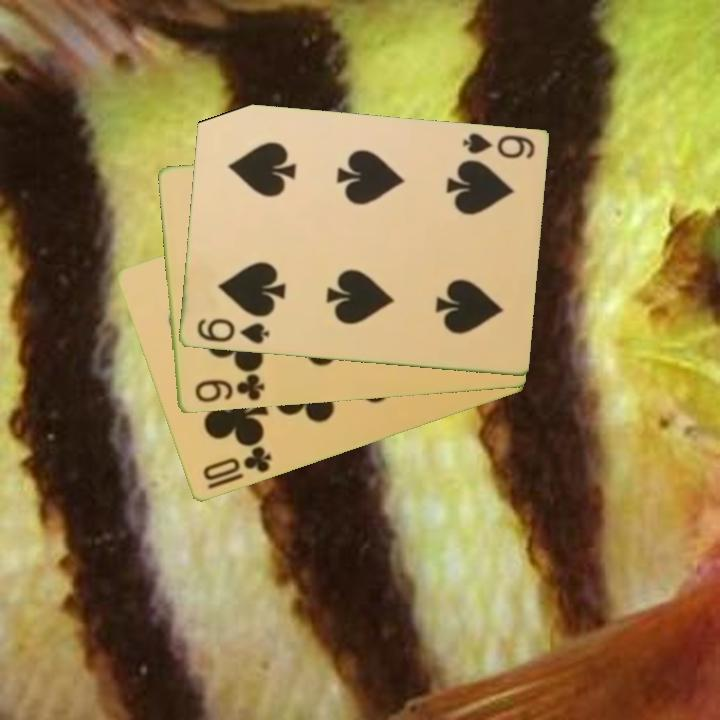10c: (198, 443, 275, 484)
6s: (193, 315, 272, 347), (459, 130, 537, 162)
9c: (191, 371, 267, 406)
